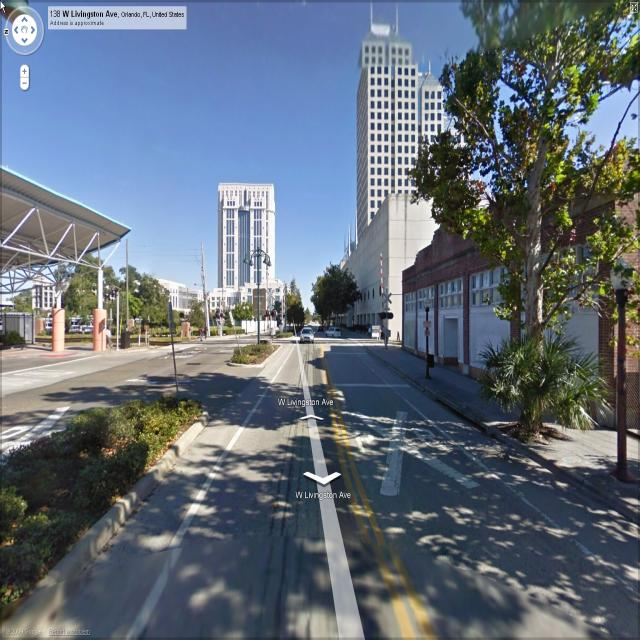b_1: (354, 11, 450, 202), (403, 234, 511, 372), (208, 189, 290, 339), (346, 200, 423, 339)
